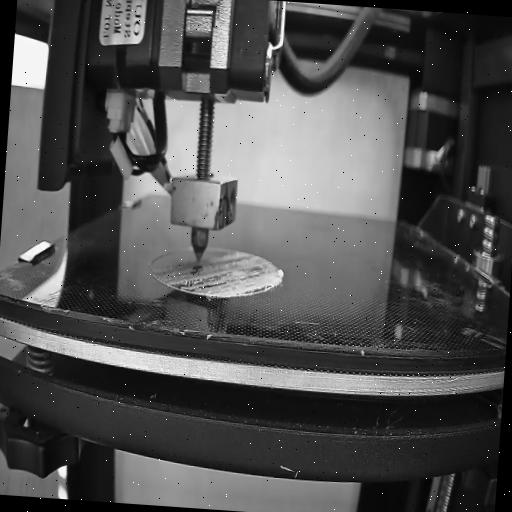under_extrusion: (172, 252, 240, 296), (242, 260, 274, 297)
